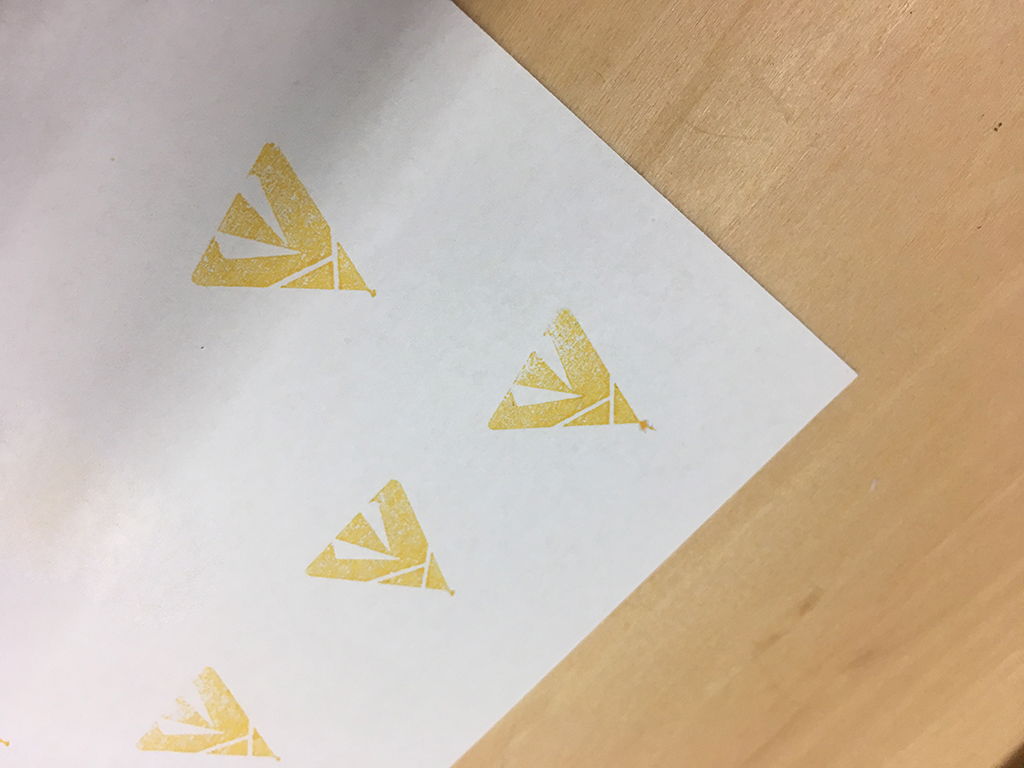tent: (180, 125, 386, 309), (477, 293, 665, 449), (294, 467, 463, 606), (129, 652, 293, 766)
